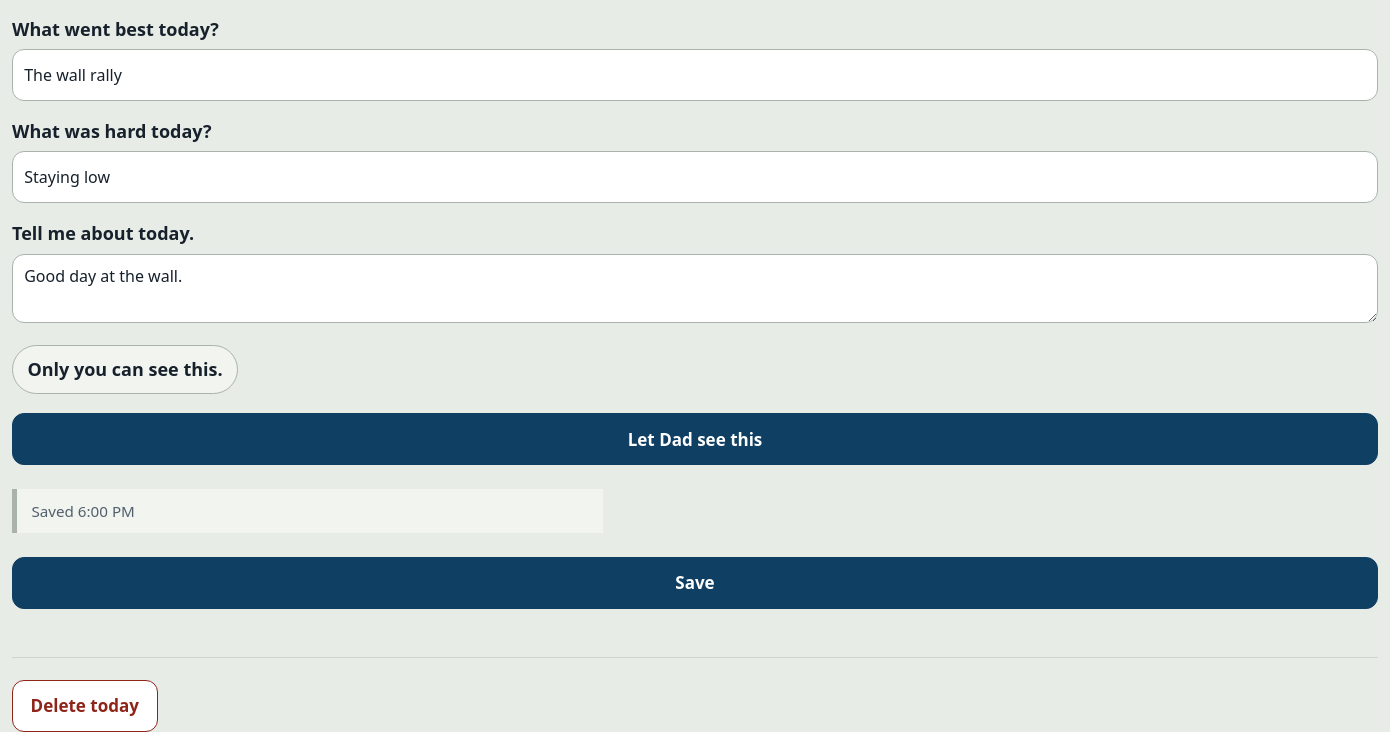
Test: the athlete journal › deleting what he wrote › puts the question away when he decides to keep it
(page scrolled)
Click the button "Delete today": point(85, 706) x1=12 y1=680 x2=158 y2=731
(page scrolled)
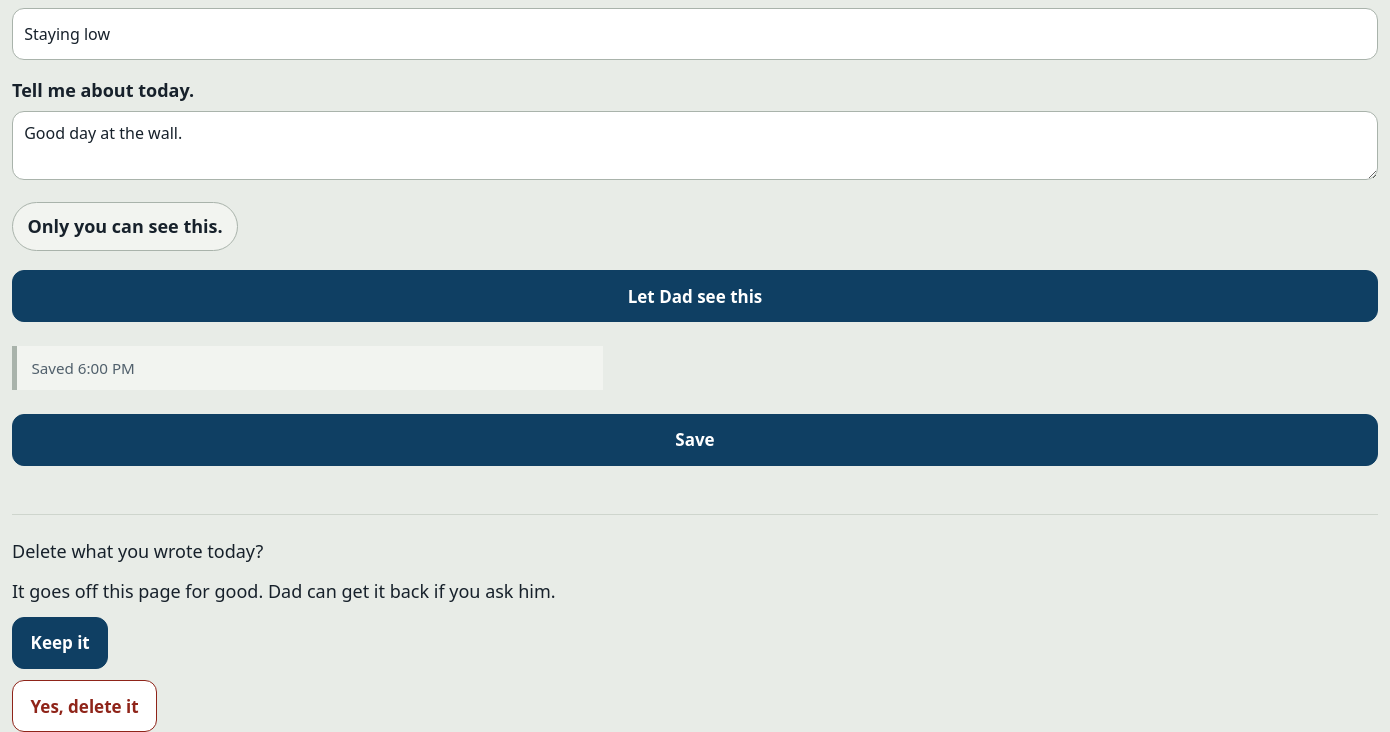
Click the button "Keep it": point(60, 643) x1=12 y1=617 x2=108 y2=669
(page scrolled)
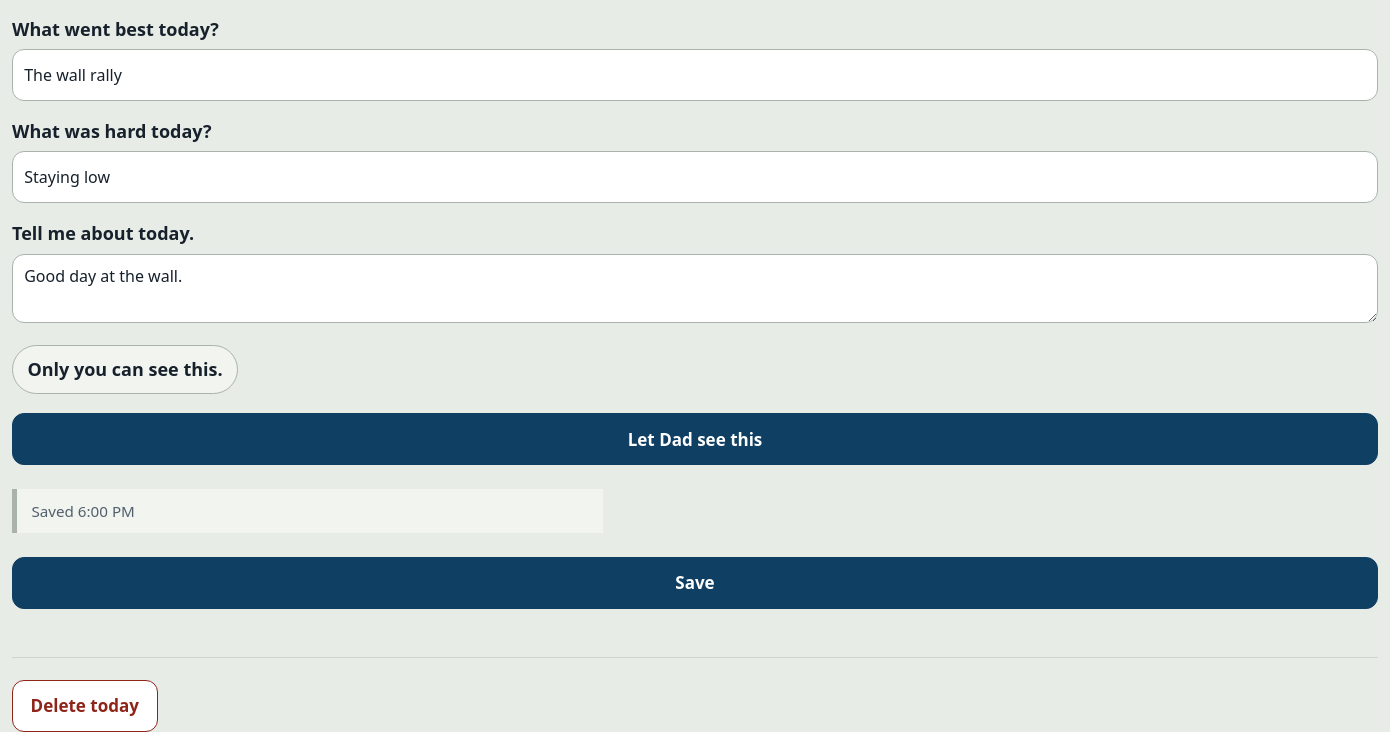
Expected: the field labelled "What went best today?" holds "The wall rally", x1=12 y1=49 x2=1378 y2=101
Expected: the text "Delete what you wrote today?" is gone
Expected: the button "Delete today" is shown, x1=12 y1=680 x2=158 y2=731
